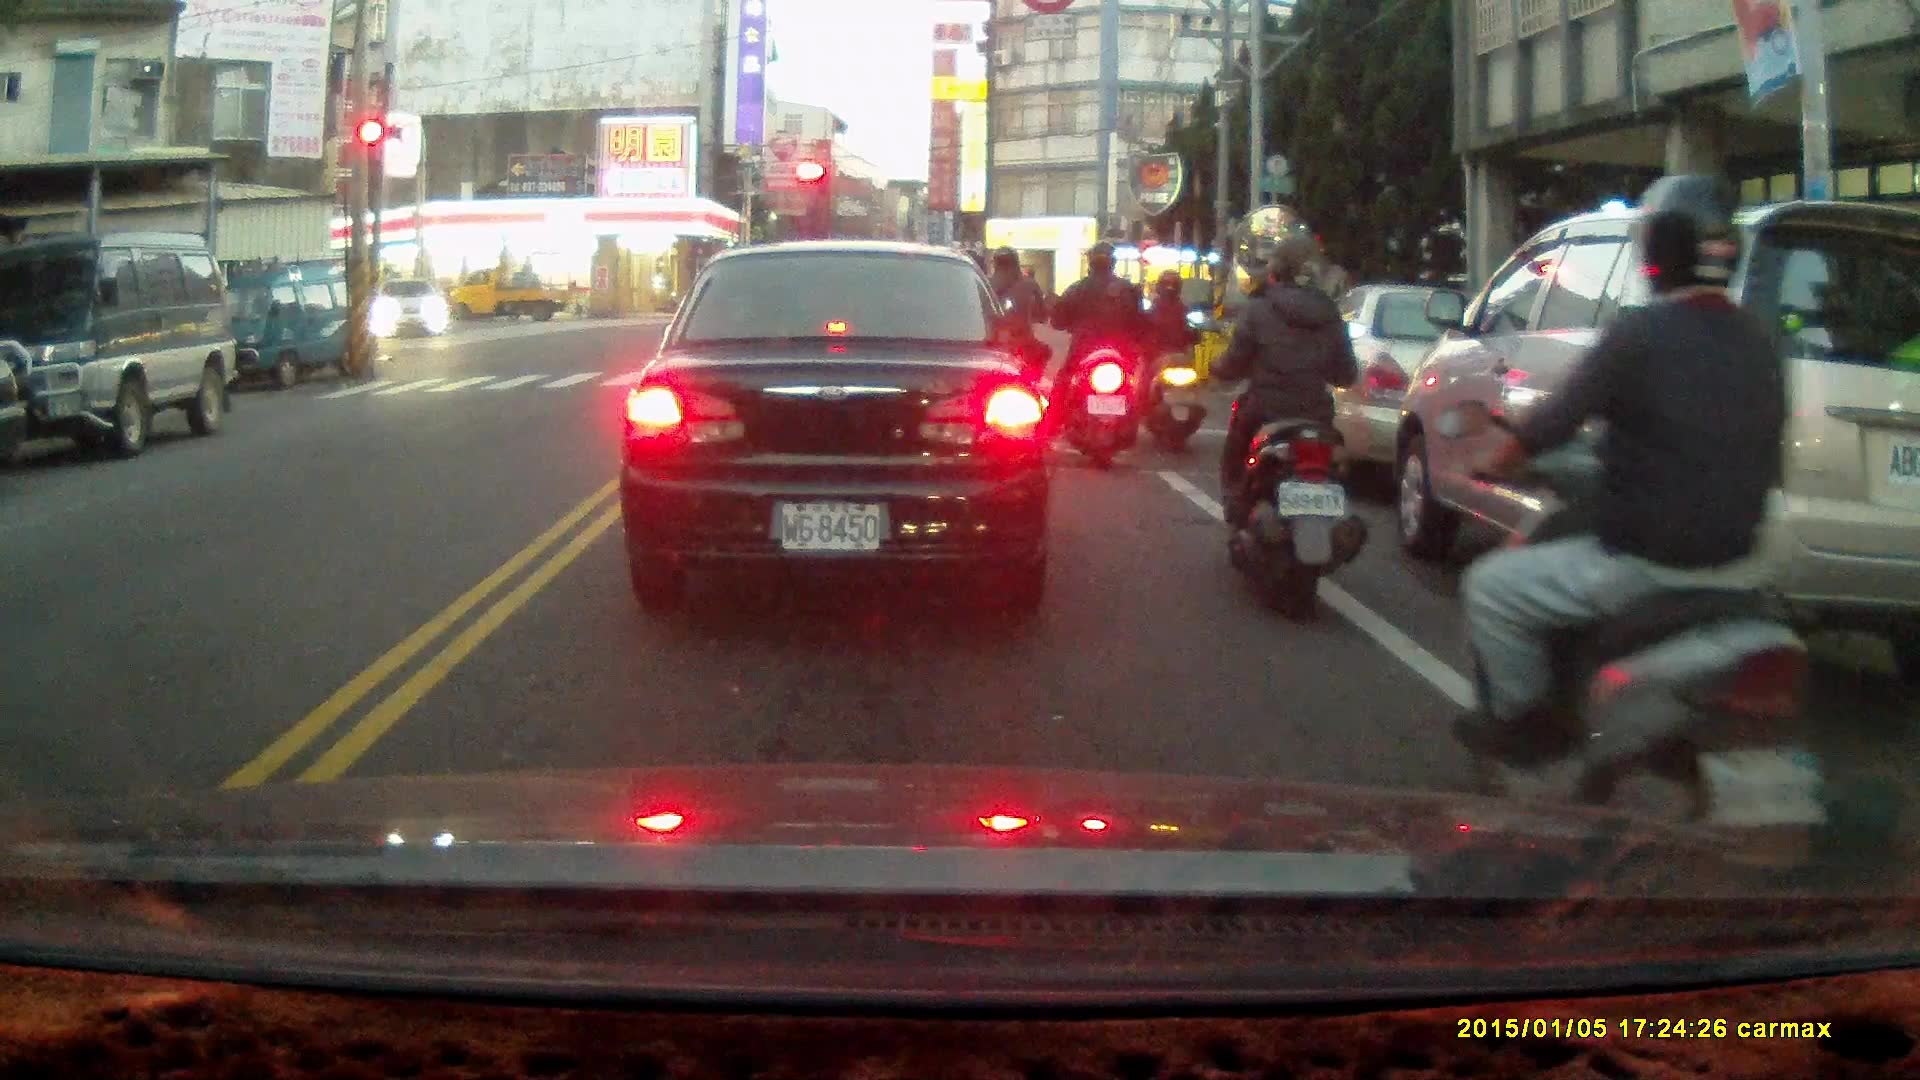rider: (1432, 162, 1839, 891), (1189, 228, 1367, 626), (1048, 243, 1141, 469), (962, 244, 1050, 447), (1134, 269, 1204, 450)
vehicle: (1381, 195, 1920, 685), (617, 243, 1061, 606), (1264, 282, 1587, 492), (1, 234, 239, 458), (194, 255, 381, 395), (443, 265, 574, 327), (372, 277, 451, 343)
